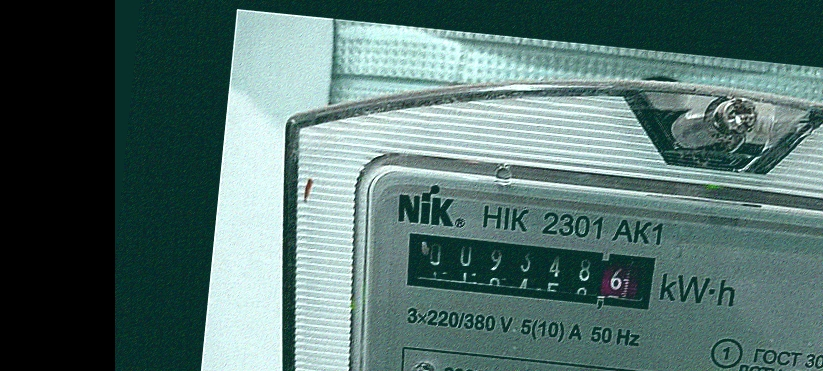0: (426, 240, 444, 267), (457, 240, 473, 267)
3: (518, 247, 534, 273)
4: (544, 248, 565, 279)
6: (606, 262, 626, 293)
8: (576, 254, 594, 283)
9: (487, 246, 504, 274)
screen: (386, 216, 670, 322)
